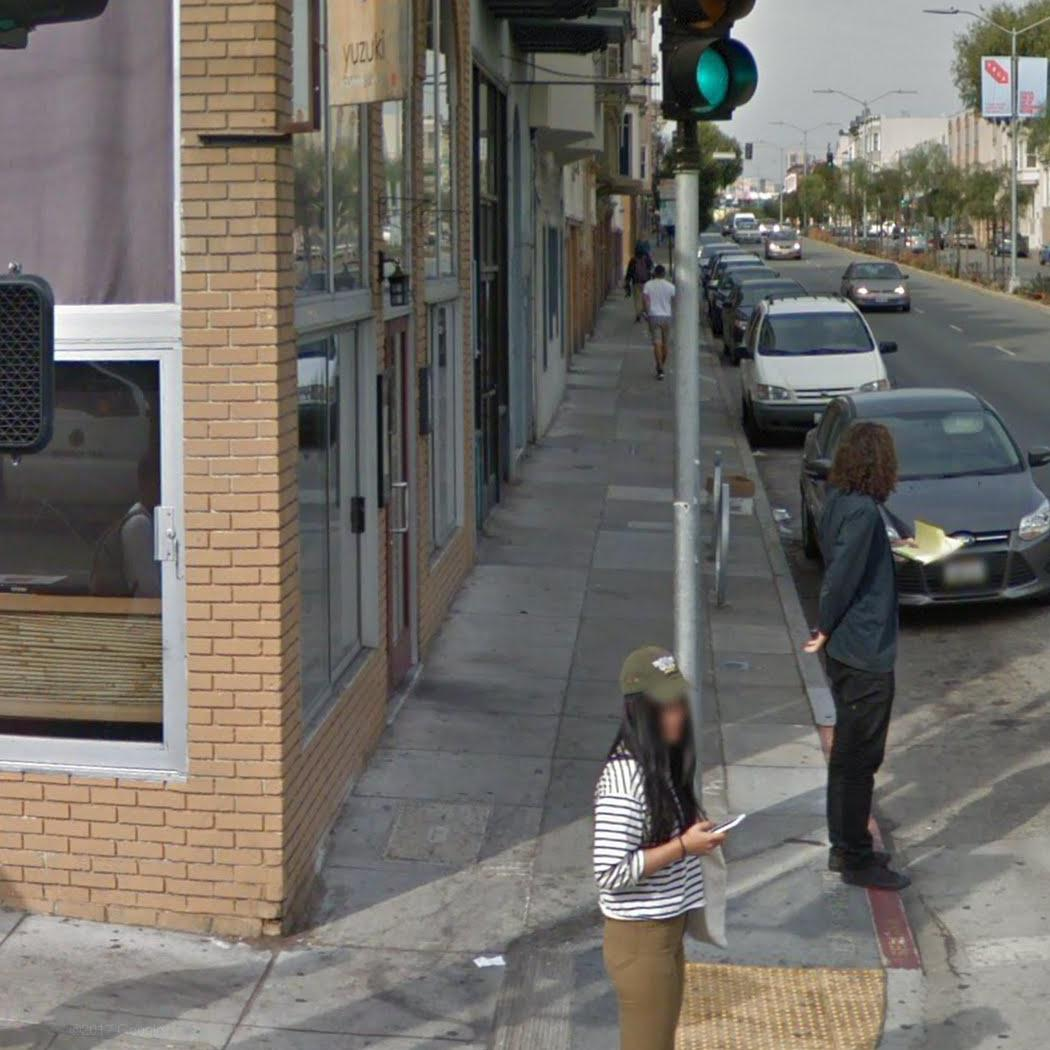2 Hour Parking: (658, 200, 677, 228)
No Parking: (658, 177, 676, 199)
